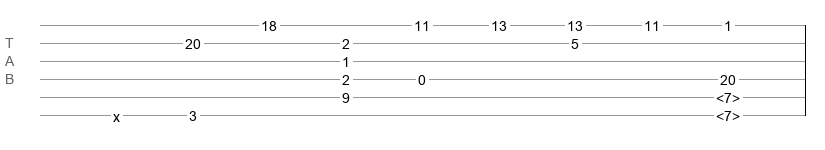0: (418, 72, 426, 82)
1: (342, 54, 350, 64), (724, 18, 732, 28)
11: (414, 18, 430, 28), (644, 18, 660, 28)
13: (491, 18, 507, 28), (567, 18, 583, 28)
18: (261, 18, 277, 28)
2: (342, 36, 350, 46), (342, 72, 350, 82)
20: (185, 36, 201, 46), (720, 72, 736, 82)
3: (189, 108, 197, 118)
5: (571, 36, 579, 46)
9: (342, 90, 350, 100)
harmonic: (716, 108, 740, 118), (716, 90, 740, 100)
x: (113, 109, 120, 117)
